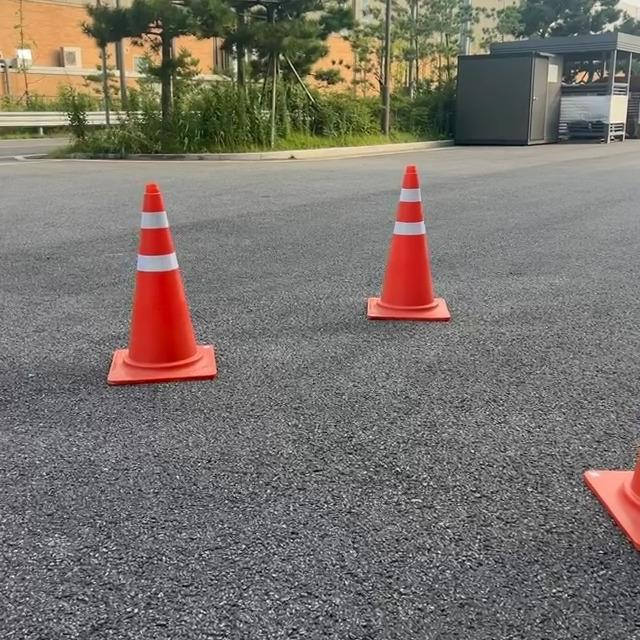fallen_object: (77, 150, 270, 450), (340, 153, 491, 402), (547, 396, 640, 640)
